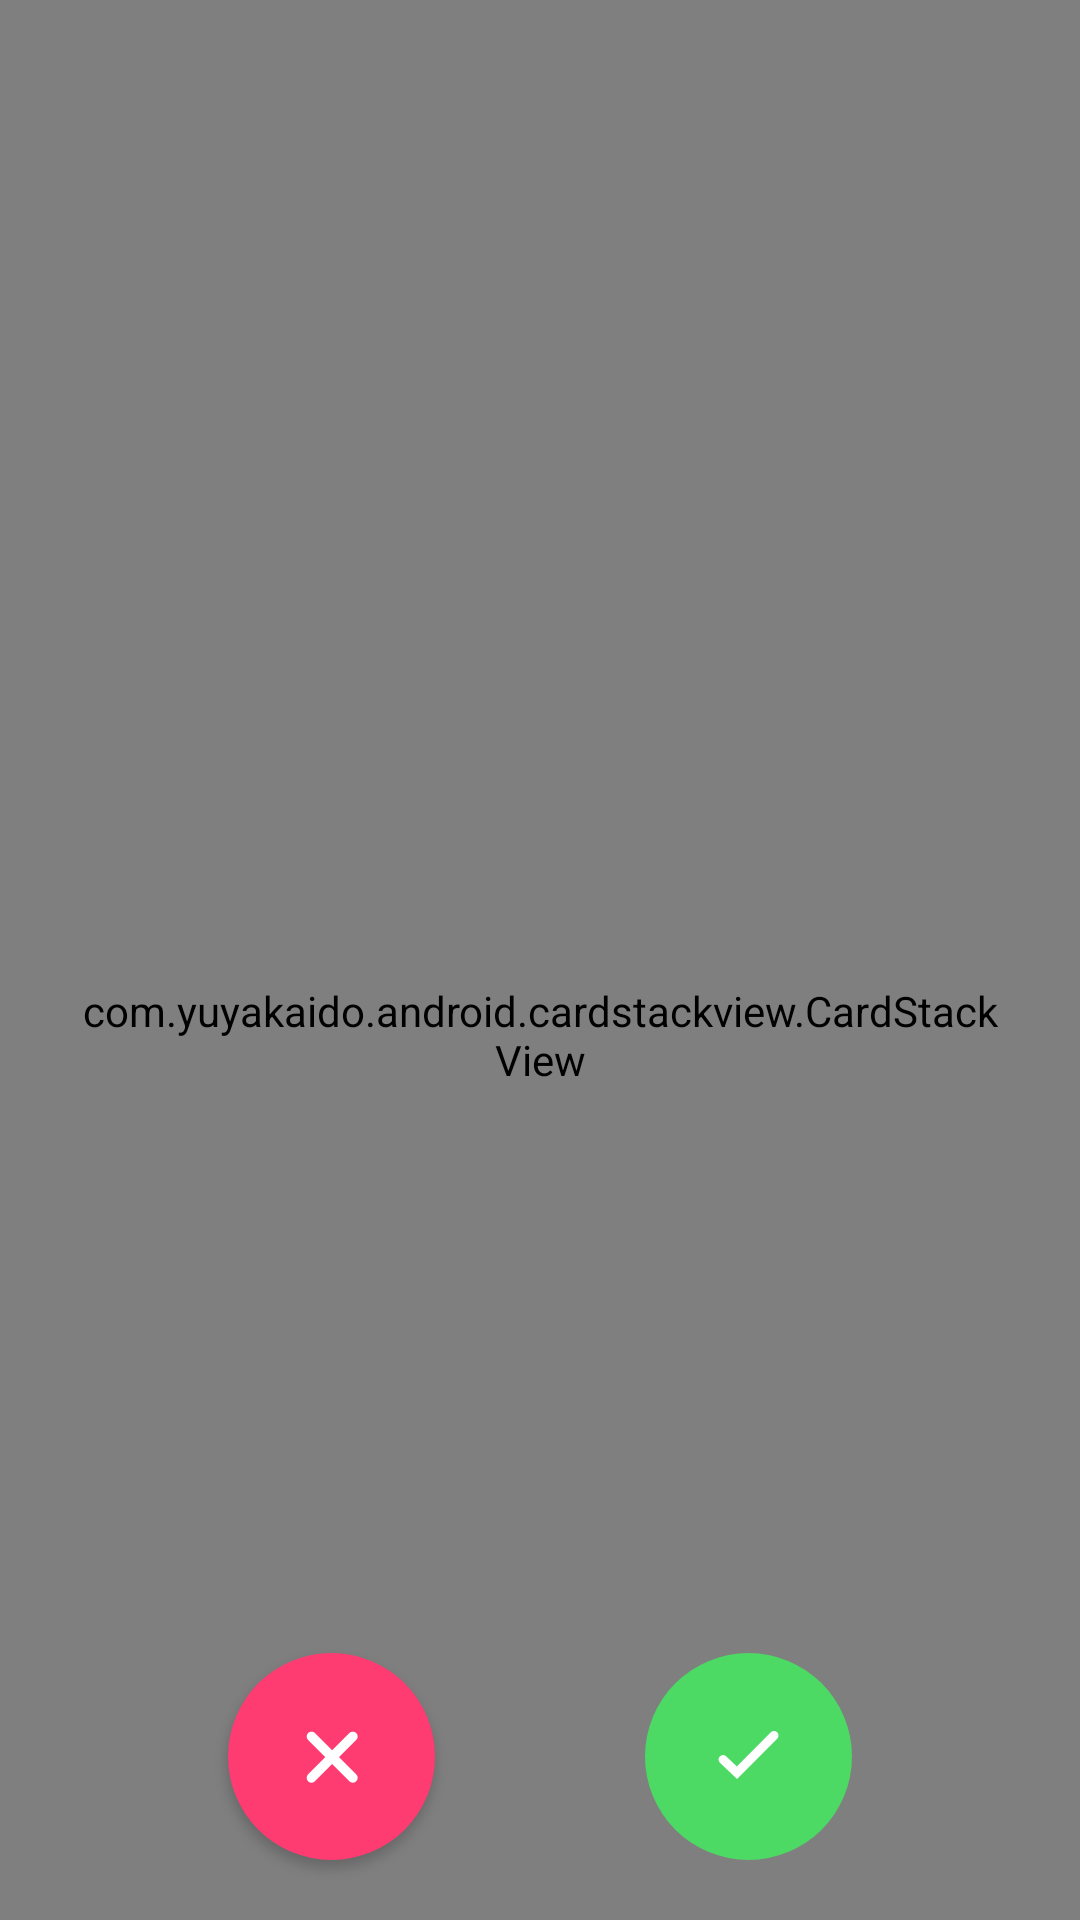

Locate icon controls on the screen. Image size 1080*1920, boxes as (x1=x1, y1=y1, x2=x2, y2=y2).
check: (x1=645, y1=1653, x2=852, y2=1860)
